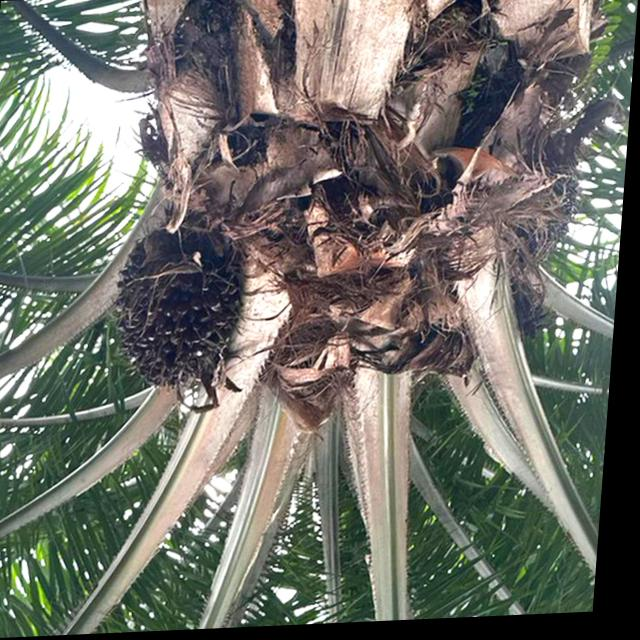almost: (106, 212, 254, 399)
